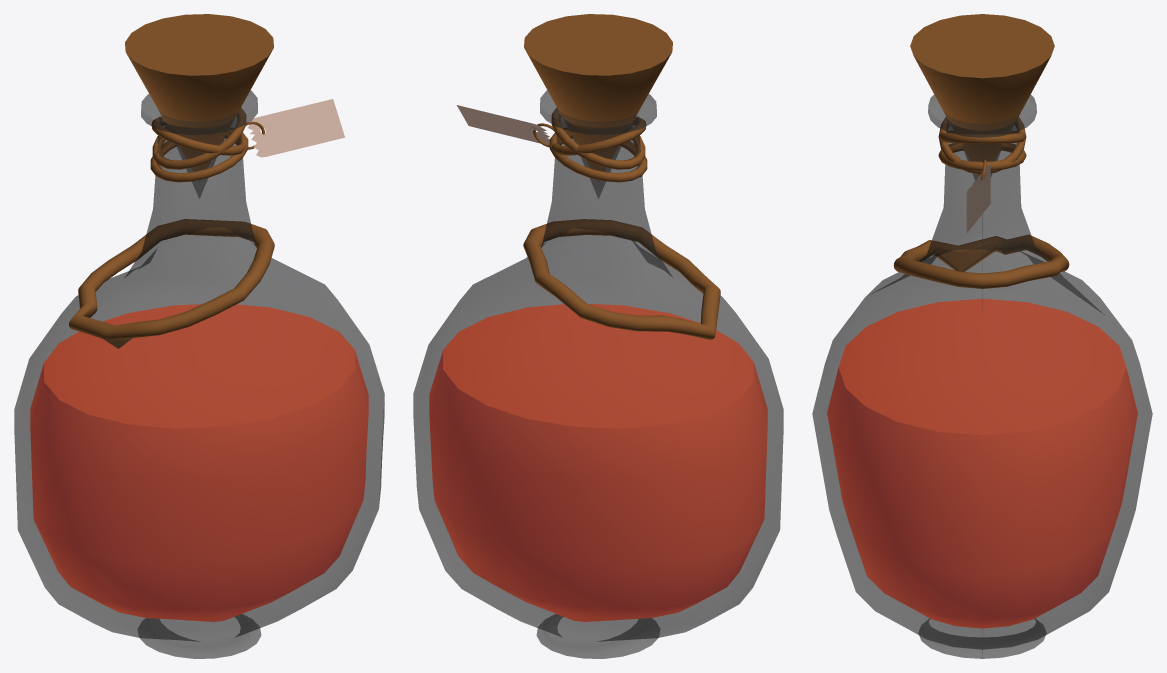
File: potiontransparencia.fbx
3 views of the same model, side by side, from view 1: azimuth 30°, elevation 25°; view 2: azimuth 150°, elevation 25°; view 3: azimuth 270°, elevation 25° (orthographic).
Parts seen in each view (by area): view 1: pTorus6; view 2: pTorus6; view 3: pTorus6.
Boxes of the visible parts, x1,y1,x2,y2 form: pTorus6: (14, 14, 384, 658); pTorus6: (413, 14, 783, 658); pTorus6: (812, 14, 1152, 658).
Size of the model in its own units: 13.16 by 22.12 by 11.63.
